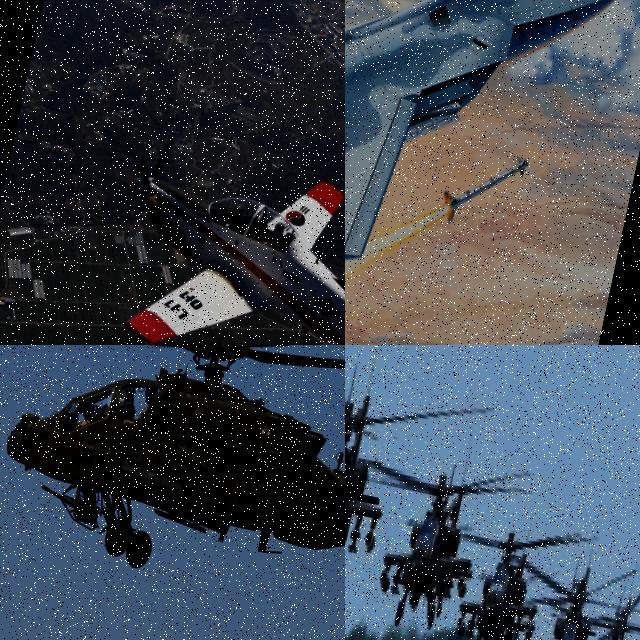Apache: (0, 345, 345, 640), (345, 345, 492, 614), (345, 433, 527, 640), (442, 504, 579, 640), (506, 532, 640, 640)
F22: (345, 0, 640, 345)
KT-1: (98, 135, 345, 345)
